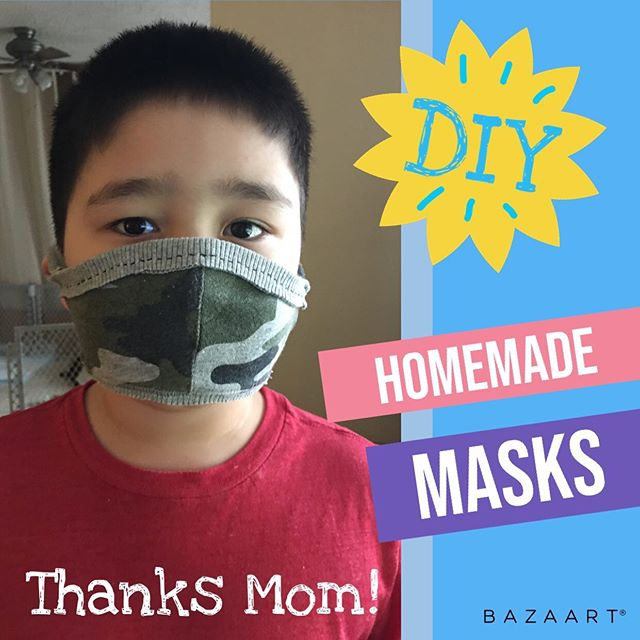homemade: (41, 238, 321, 402)
